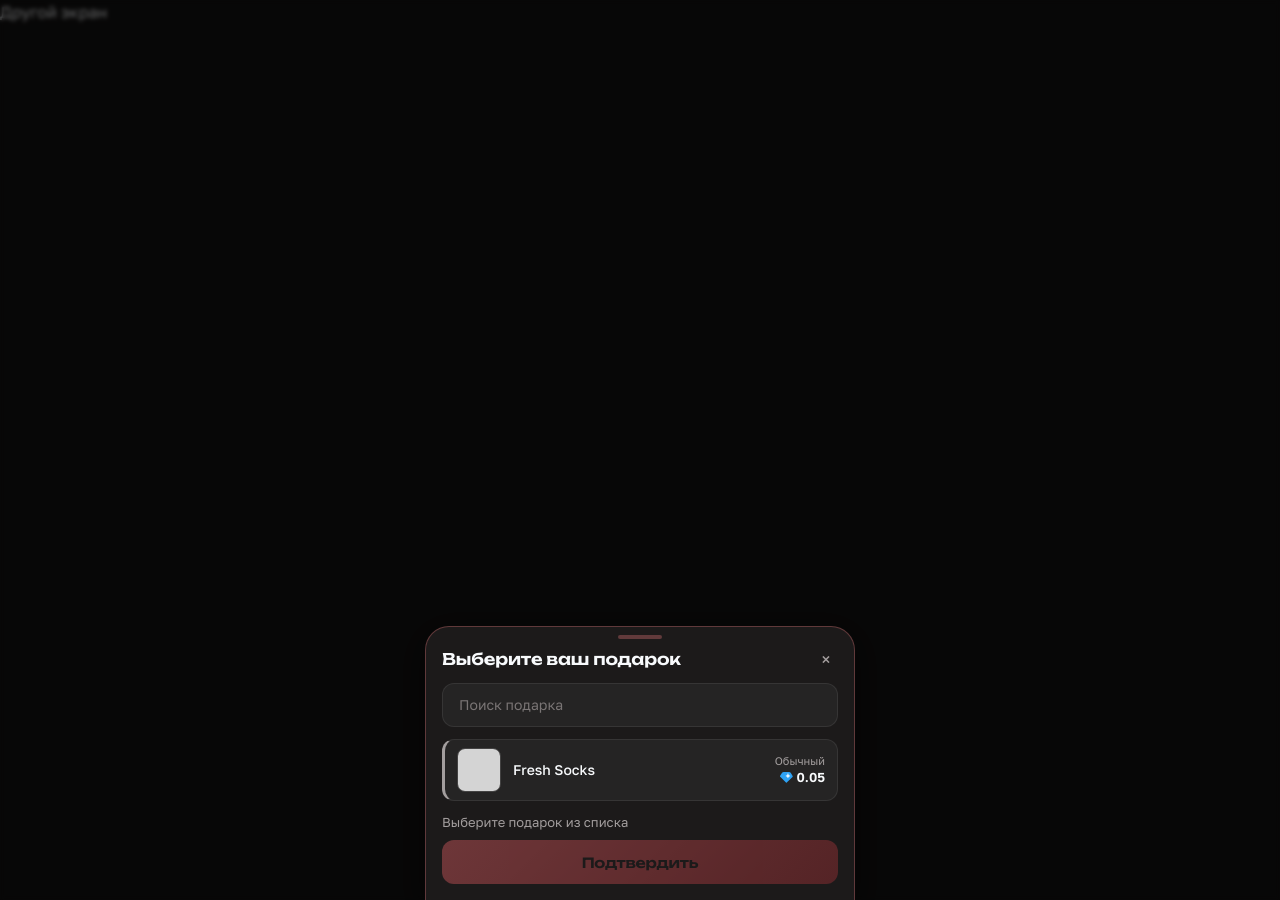
GiftPickerSheet (3.3: выбор подарка для игры) › поиск без совпадений показывает «Ничего не найдено»
The width and height of the screenshot is (1280, 900).
Type "нет-такого" into the search field labelled "Поиск подарка" at (640, 704), box [442, 682, 838, 726]
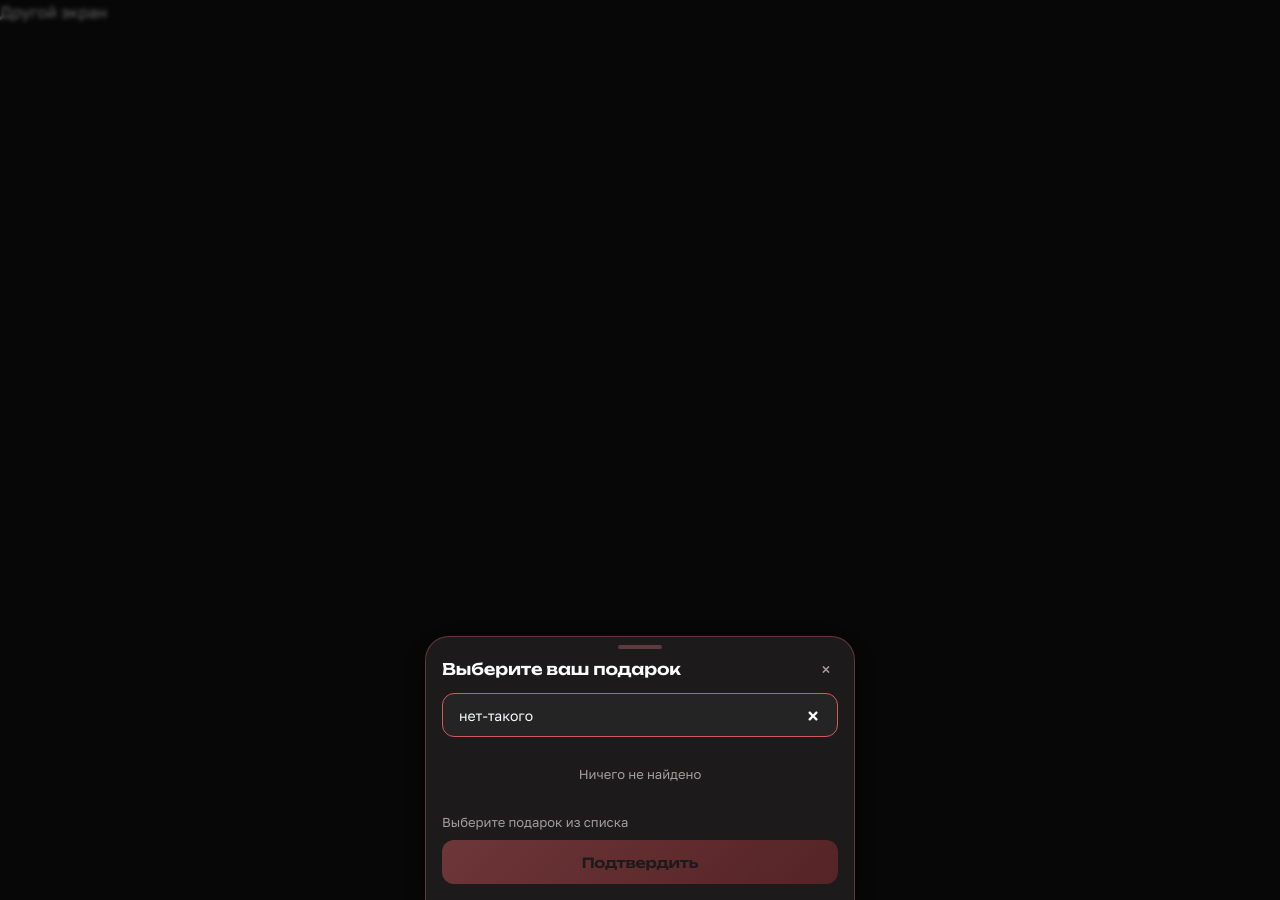
Expected: the button "Подтвердить" is disabled, [442, 840, 838, 884]
Expected: the list item "Ничего не найдено" is shown, [579, 766, 701, 782]
